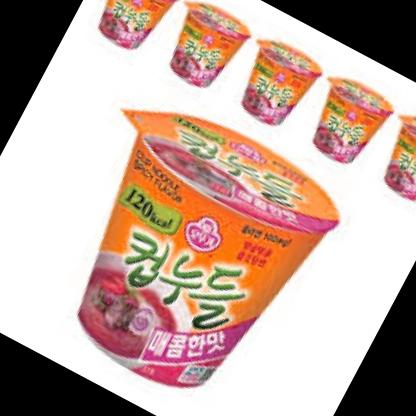Ramen: (21, 80, 351, 416), (224, 31, 327, 137), (296, 68, 399, 174), (148, 0, 254, 100), (82, 0, 185, 61), (363, 105, 416, 212)
